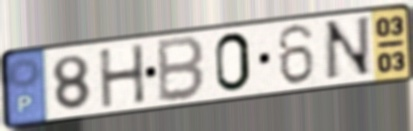0: (213, 31, 254, 95)
6: (276, 21, 318, 88)
8: (49, 53, 96, 112)
B: (156, 34, 207, 105)
H: (96, 41, 148, 111)
N: (321, 14, 375, 84)
